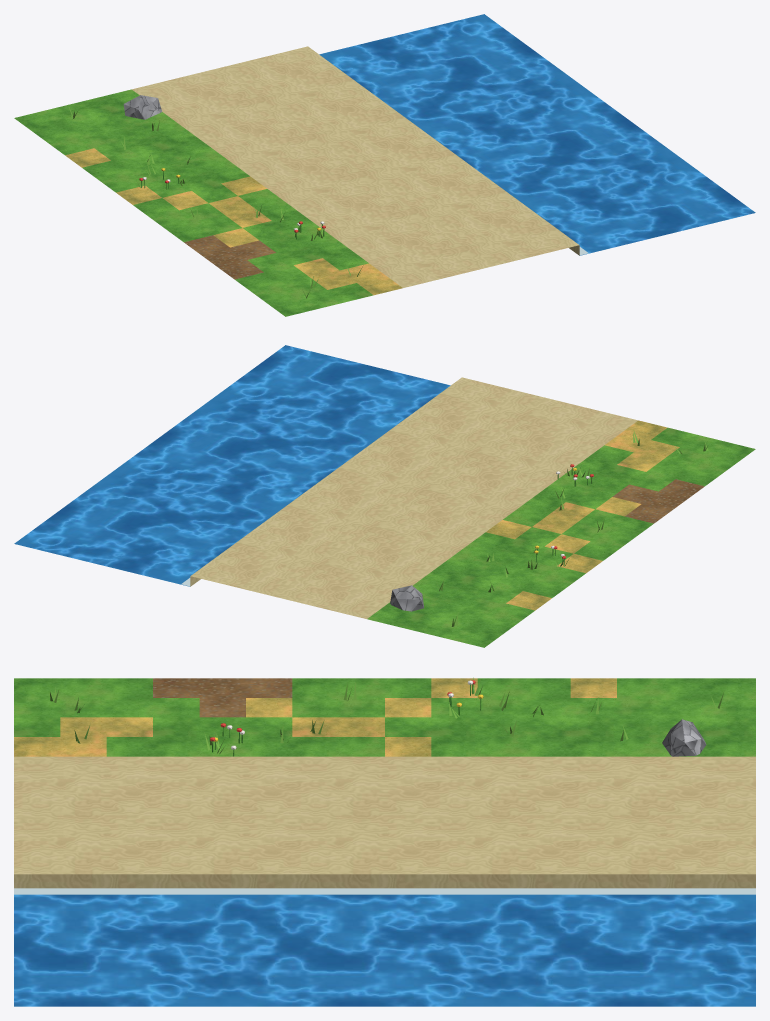
Rendered from chunk_11_11.glb.
The picture shows the model from 3 angles, top to bottom: view 1: azimuth 30°, elevation 25°; view 2: azimuth 150°, elevation 25°; view 3: azimuth 270°, elevation 25°; orthographic projection. The views are drawn at different scales.
Parts seen in each view (by area): view 1: chunk_11_11; view 2: chunk_11_11; view 3: chunk_11_11.
Boxes of the visible parts, bbox=[...] form: chunk_11_11: bbox=[14, 14, 755, 316]; chunk_11_11: bbox=[14, 345, 755, 647]; chunk_11_11: bbox=[14, 677, 755, 1006].
Size of the model in its own units: 16 by 1.03 by 16.
Materials: 12 (7 with a texture image).
